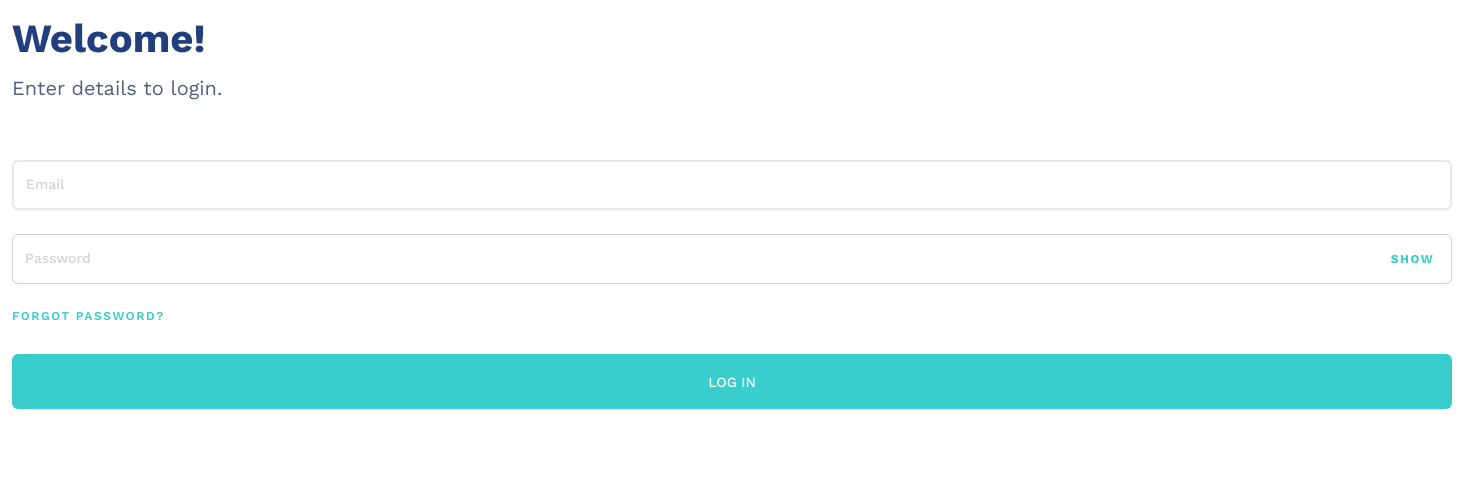
Scenario: SigninForm › shows error message with invalid data
Type "invalid-email" into the field with placeholder "Email" at (732, 185), box [12,160,1452,210]
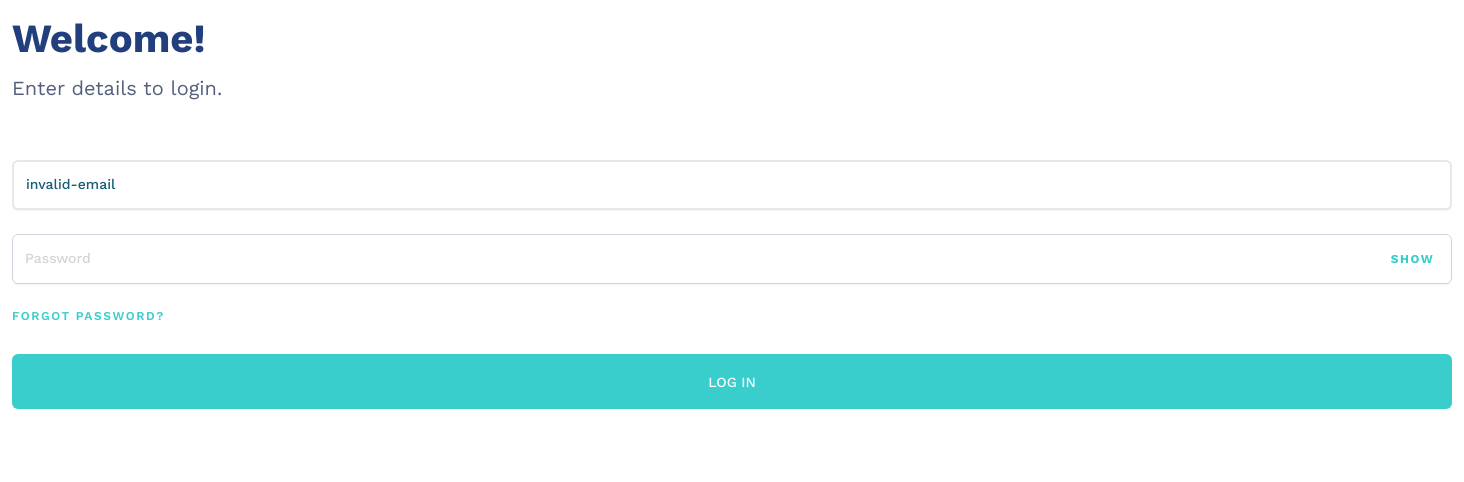
Type "short" into the password field with placeholder "Password" at (732, 259), box [12,234,1452,284]
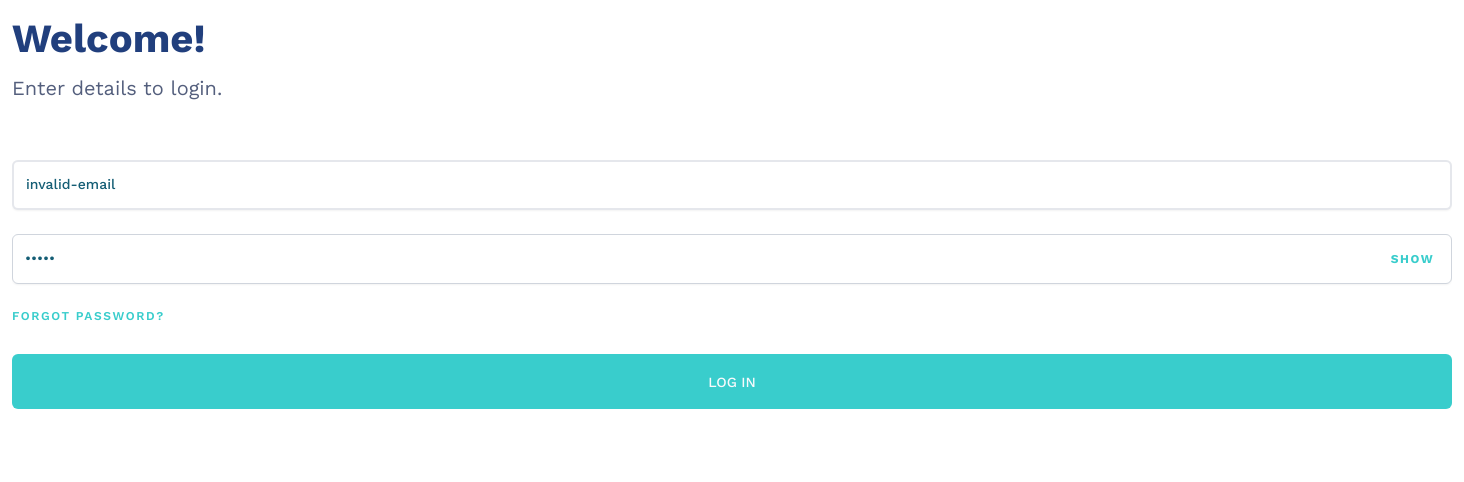
Click the button "LOG IN" at (732, 382), box [12,354,1452,409]
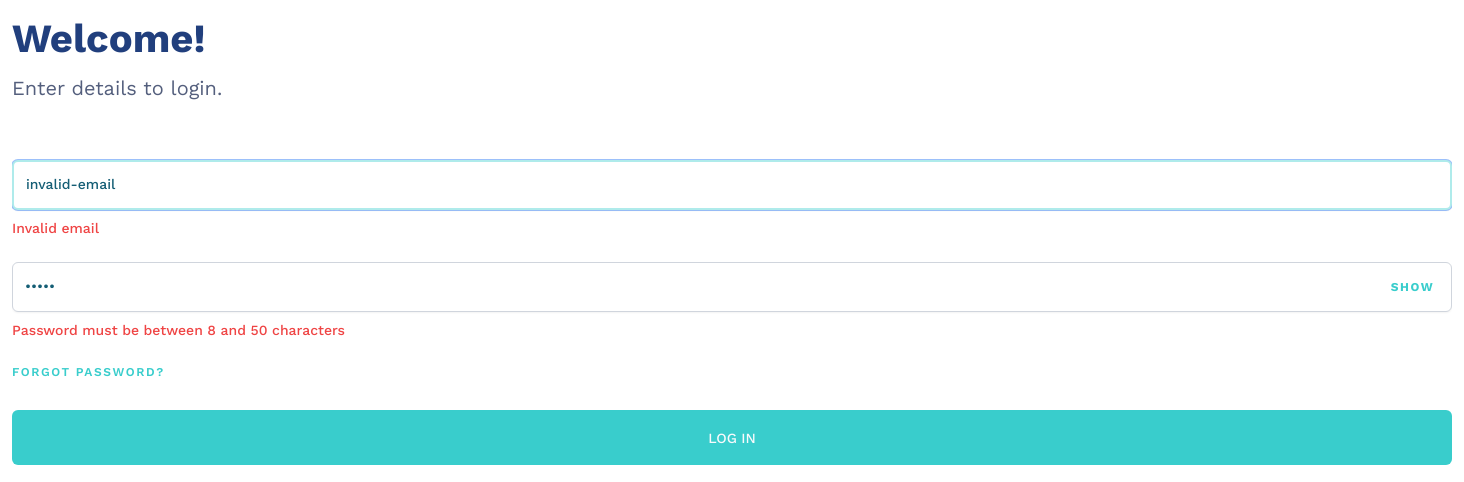
Now the text "Invalid email" is shown, box [12,220,99,236]
Now the text "Password must be between 8 and 50 characters" is shown, box [12,322,345,338]
